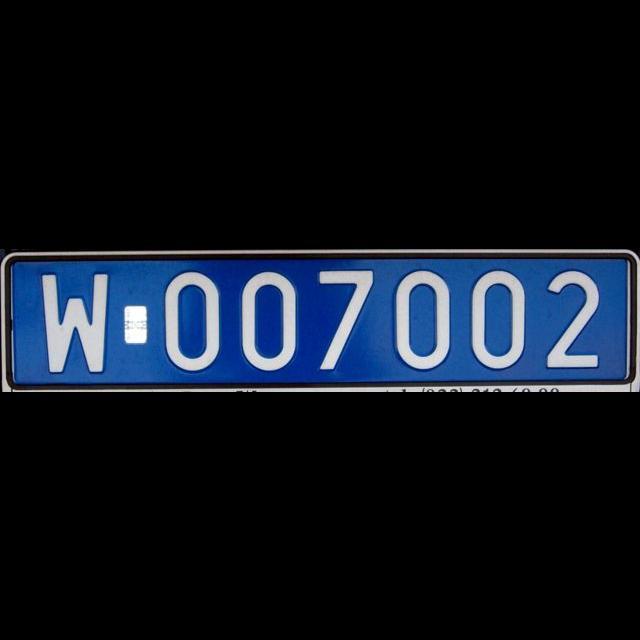pl_license_plate: (7, 255, 630, 381)
